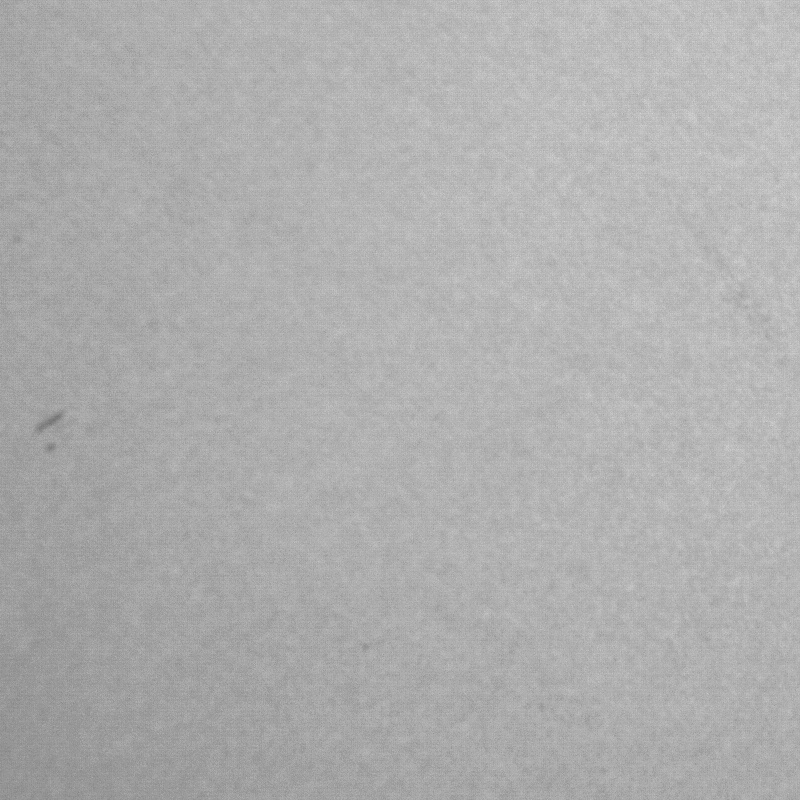defect: (27, 413, 58, 438), (45, 443, 57, 452)
